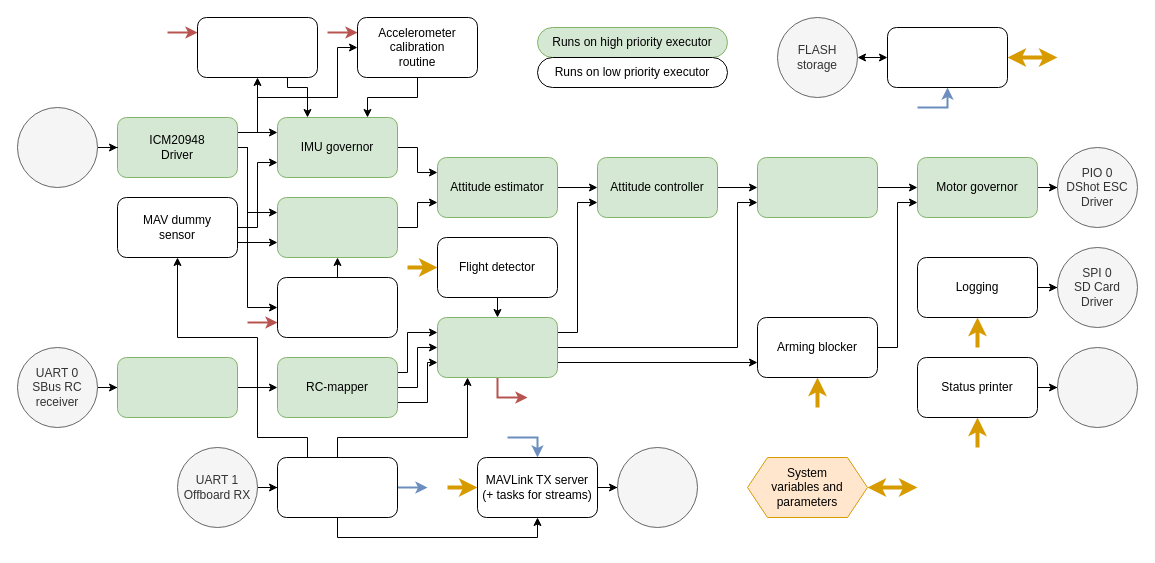
Image size: 1155x563. Some labels were removed from this diagram. The box of each missing label's shape, as (x1, y1, x2, y2) in pixels:
Commander: (436, 316, 558, 378)
Config master: (886, 26, 1008, 88)
Gyroscope calibration routine: (196, 16, 318, 78)
I2C 0 ICM 20948 sensor: (16, 106, 98, 188)
Mag governor: (276, 196, 398, 258)
Magnetometer calibration routine: (276, 276, 398, 338)
MAVLink RX server: (276, 456, 398, 518)
Motor mixing: (756, 156, 878, 218)
SBus receiver: (116, 356, 238, 418)
SWD: (1056, 346, 1138, 428)
UART 1 Offboard TX: (616, 446, 698, 528)
